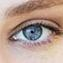eye: (22, 25, 42, 41)
